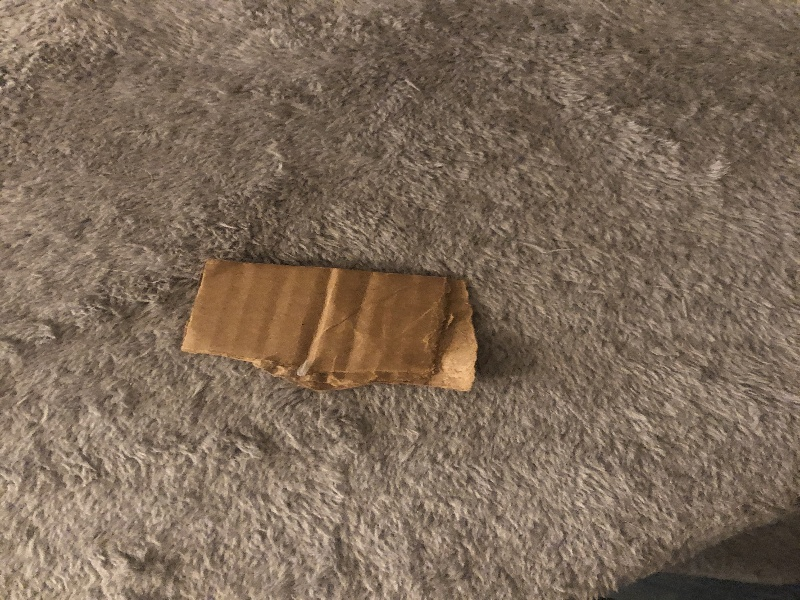cardboard: (174, 251, 490, 404)
